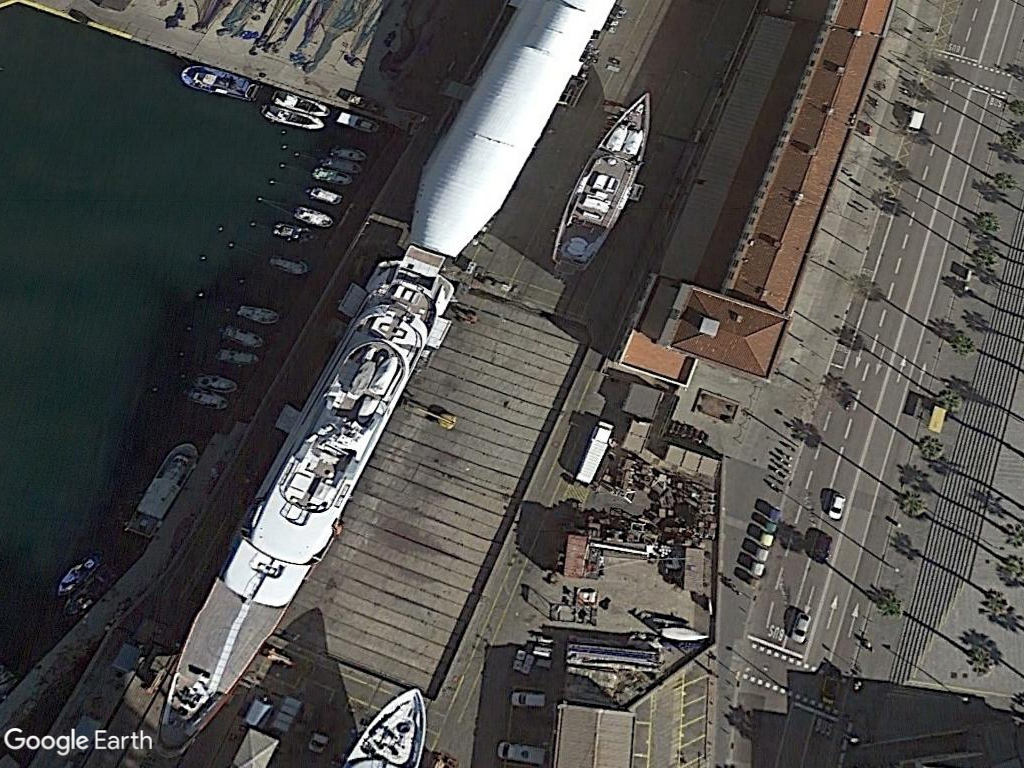boat: (544, 78, 658, 290), (177, 60, 264, 106), (331, 105, 384, 136), (266, 249, 313, 280), (232, 299, 282, 328), (290, 202, 336, 231), (209, 344, 262, 368), (190, 369, 240, 394)
truck: (492, 736, 552, 768)
